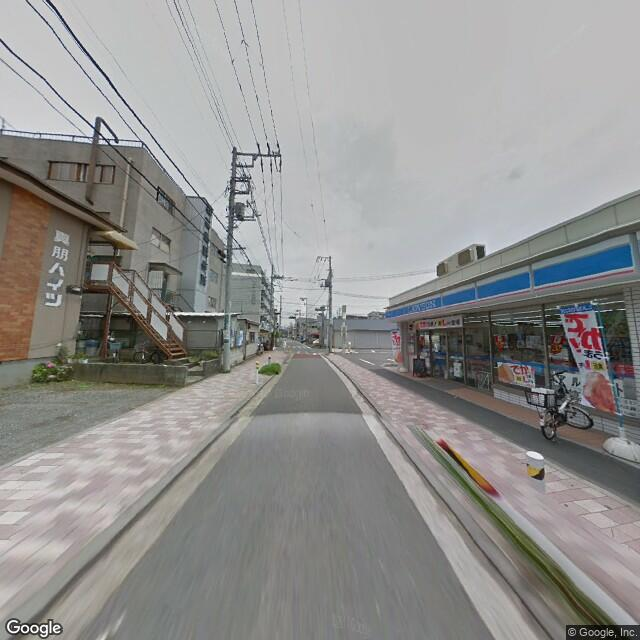lawson: (383, 226, 636, 327)
